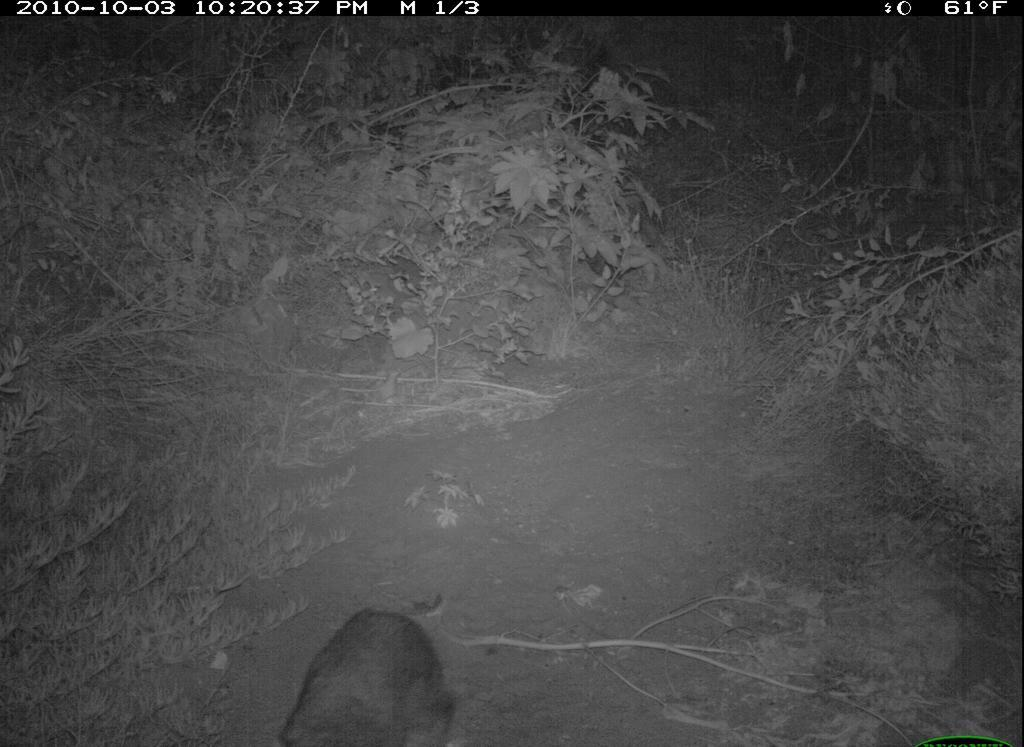raccoon: (274, 602, 468, 747)
